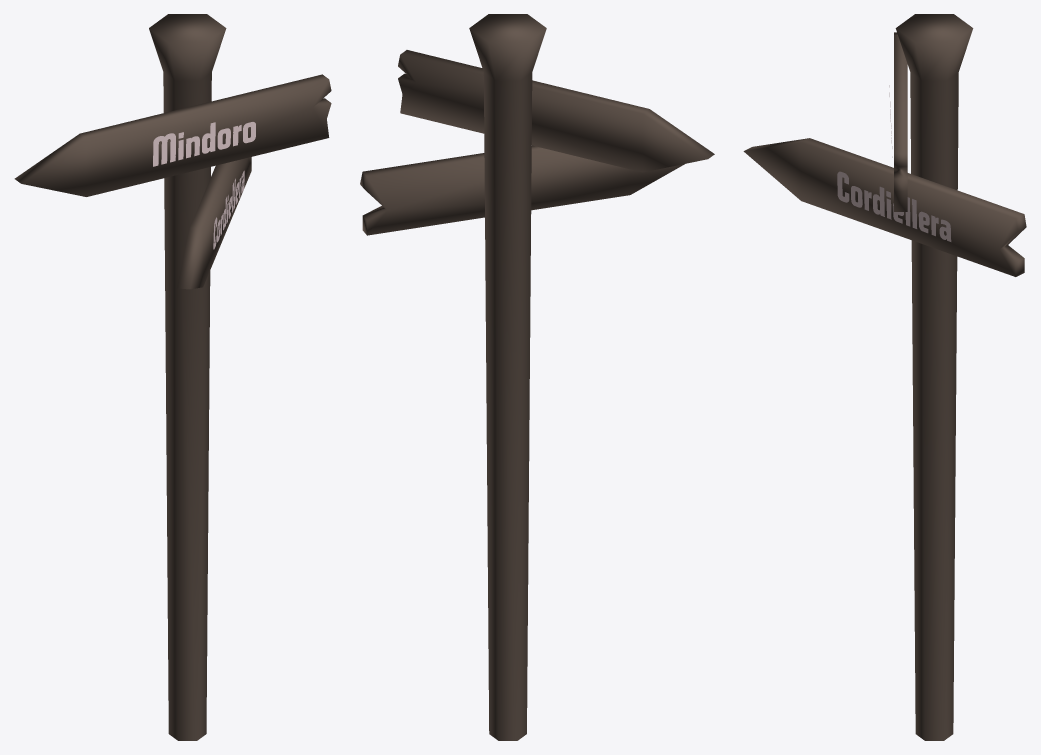
Rendered from sign.glb.
The picture shows the model from 3 angles, left to right: view 1: azimuth 30°, elevation 25°; view 2: azimuth 150°, elevation 25°; view 3: azimuth 270°, elevation 25°; orthographic projection.
Bounding box in the file's own units: 1.13 × 2.46 × 0.8934.
